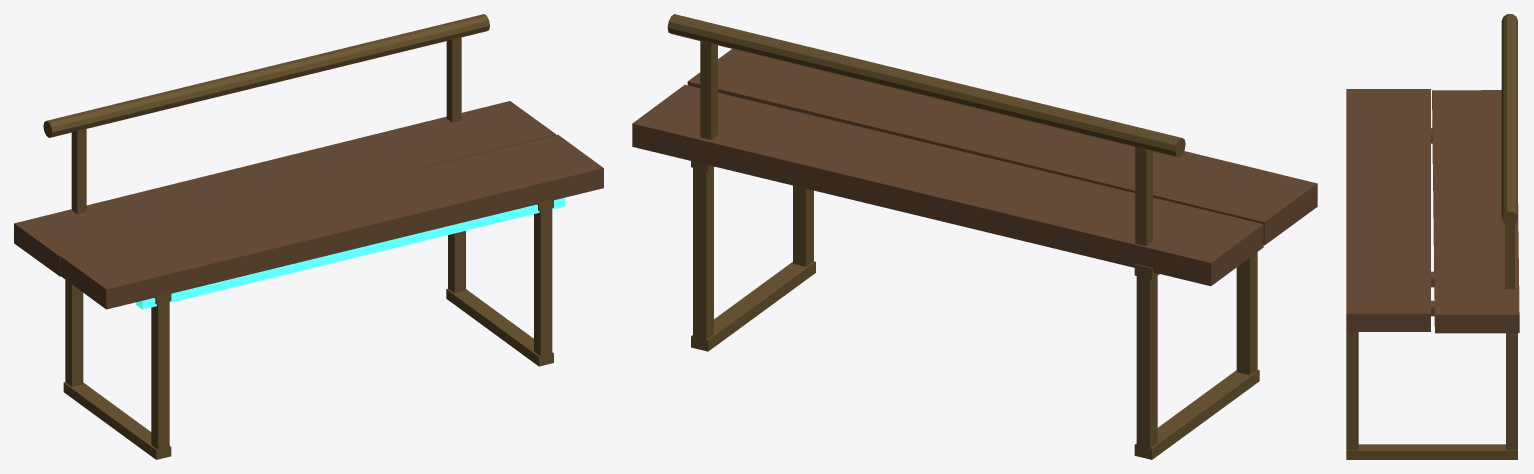
Rendered from SM_Bench_DvergrBrass_08.glb.
3 renders of one model, left to right at view 1: azimuth 30°, elevation 25°; view 2: azimuth 150°, elevation 25°; view 3: azimuth 270°, elevation 25°, orthographic. The views are drawn at different scales.
Visible parts, largest first — view 1: SM_Bench_DvergrBrass_08_SeatPlank0, SM_Bench_DvergrBrass_08_SeatPlank1, SM_Bench_DvergrBrass_08_BackRail, SM_Bench_DvergrBrass_08_UnderglowStrip, SM_Bench_DvergrBrass_08_LoopLPostF, SM_Bench_DvergrBrass_08_LoopRPostF, SM_Bench_DvergrBrass_08_LoopLBot, SM_Bench_DvergrBrass_08_LoopRBot, SM_Bench_DvergrBrass_08_LoopLPostB, SM_Bench_DvergrBrass_08_BackPostR, SM_Bench_DvergrBrass_08_BackPostL, SM_Bench_DvergrBrass_08_LoopRPostB; view 2: SM_Bench_DvergrBrass_08_SeatPlank1, SM_Bench_DvergrBrass_08_SeatPlank0, SM_Bench_DvergrBrass_08_BackRail, SM_Bench_DvergrBrass_08_LoopLPostB, SM_Bench_DvergrBrass_08_LoopRPostB, SM_Bench_DvergrBrass_08_LoopRBot, SM_Bench_DvergrBrass_08_LoopLBot, SM_Bench_DvergrBrass_08_LoopLPostF, SM_Bench_DvergrBrass_08_BackPostR, SM_Bench_DvergrBrass_08_BackPostL, SM_Bench_DvergrBrass_08_LoopRPostF; view 3: SM_Bench_DvergrBrass_08_SeatPlank0, SM_Bench_DvergrBrass_08_SeatPlank1, SM_Bench_DvergrBrass_08_BackRail, SM_Bench_DvergrBrass_08_LoopRBot, SM_Bench_DvergrBrass_08_LoopRPostF, SM_Bench_DvergrBrass_08_LoopRPostB, SM_Bench_DvergrBrass_08_BackPostR.
Part boxes in pixels (x1,y1,x2,y2): SM_Bench_DvergrBrass_08_SeatPlank0: (60,134,603,309); SM_Bench_DvergrBrass_08_SeatPlank1: (14,101,556,276); SM_Bench_DvergrBrass_08_BackRail: (43,14,489,137); SM_Bench_DvergrBrass_08_UnderglowStrip: (136,198,565,309); SM_Bench_DvergrBrass_08_LoopLPostF: (151,294,169,456); SM_Bench_DvergrBrass_08_LoopRPostF: (534,208,552,356); SM_Bench_DvergrBrass_08_LoopLBot: (63,382,171,459); SM_Bench_DvergrBrass_08_LoopRBot: (446,288,553,366); SM_Bench_DvergrBrass_08_LoopLPostB: (65,280,83,386); SM_Bench_DvergrBrass_08_BackPostR: (446,37,461,122); SM_Bench_DvergrBrass_08_BackPostL: (71,128,86,214); SM_Bench_DvergrBrass_08_LoopRPostB: (448,231,465,293); SM_Bench_DvergrBrass_08_SeatPlank1: (632,84,1263,286); SM_Bench_DvergrBrass_08_SeatPlank0: (687,49,1317,245); SM_Bench_DvergrBrass_08_BackRail: (667,14,1185,157); SM_Bench_DvergrBrass_08_LoopLPostB: (1136,268,1157,456); SM_Bench_DvergrBrass_08_LoopRPostB: (693,161,713,347); SM_Bench_DvergrBrass_08_LoopRBot: (691,261,815,351); SM_Bench_DvergrBrass_08_LoopLBot: (1134,369,1259,459); SM_Bench_DvergrBrass_08_LoopLPostF: (1236,252,1257,374); SM_Bench_DvergrBrass_08_BackPostR: (700,40,717,139); SM_Bench_DvergrBrass_08_BackPostL: (1135,146,1152,246); SM_Bench_DvergrBrass_08_LoopRPostF: (793,185,813,266); SM_Bench_DvergrBrass_08_SeatPlank0: (1346,89,1430,331); SM_Bench_DvergrBrass_08_SeatPlank1: (1432,90,1519,333); SM_Bench_DvergrBrass_08_BackRail: (1501,14,1517,225); SM_Bench_DvergrBrass_08_LoopRBot: (1346,444,1517,459); SM_Bench_DvergrBrass_08_LoopRPostF: (1346,332,1358,450); SM_Bench_DvergrBrass_08_LoopRPostB: (1506,333,1517,450); SM_Bench_DvergrBrass_08_BackPostR: (1505,224,1514,289).
Size of the model in its own units: 1.3 by 0.695 by 0.4234.
